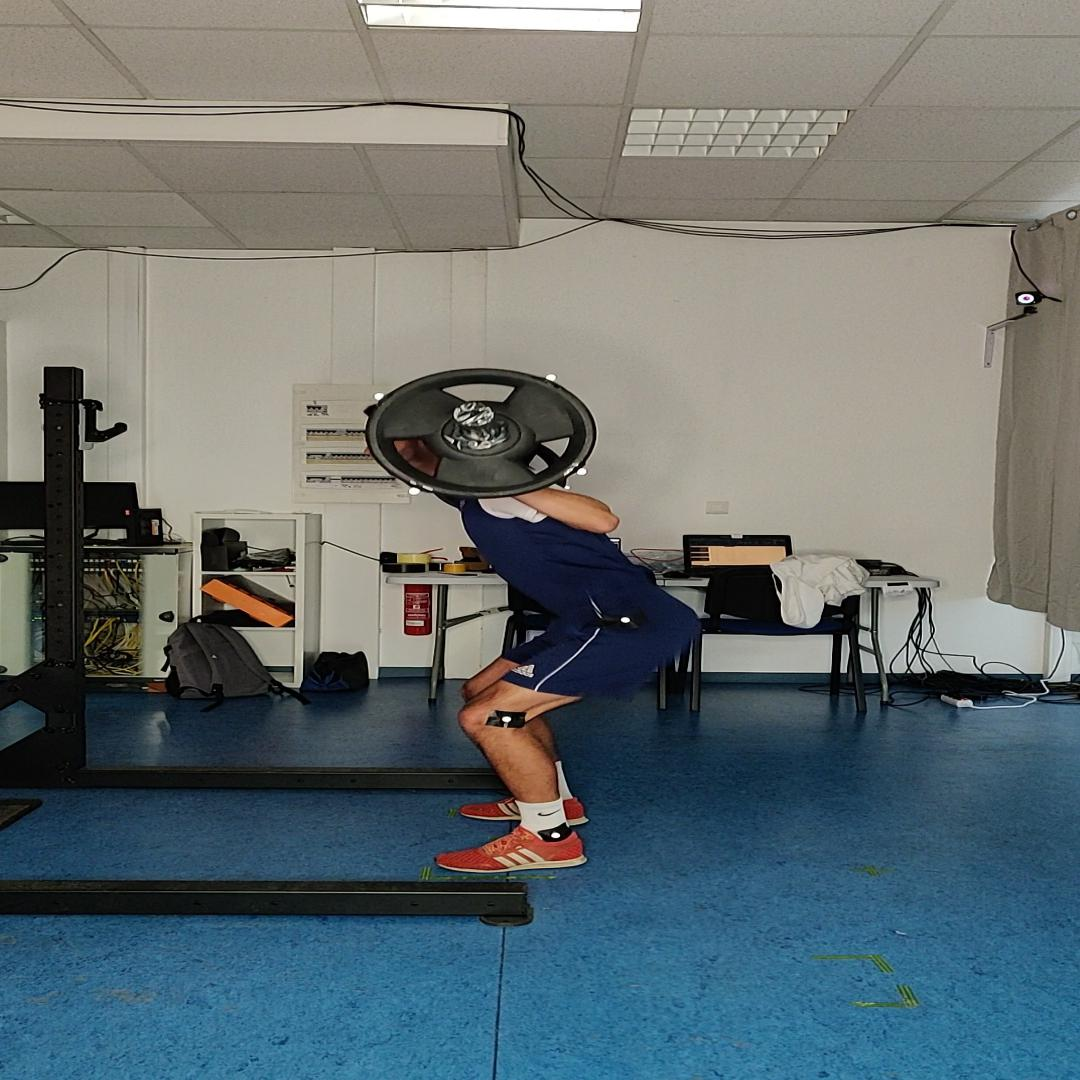Bar: (453, 402, 494, 427)
Barbell: (367, 368, 596, 499)
